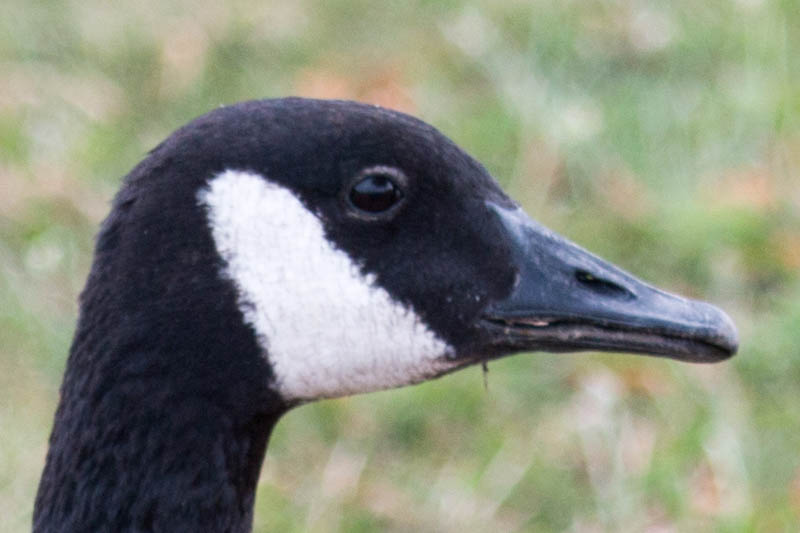goose-head: (79, 96, 739, 411)
